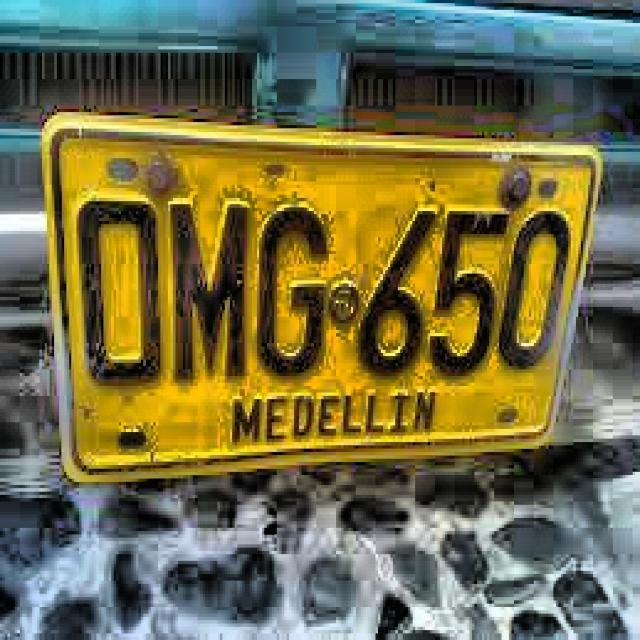plate: (49, 124, 596, 474)
